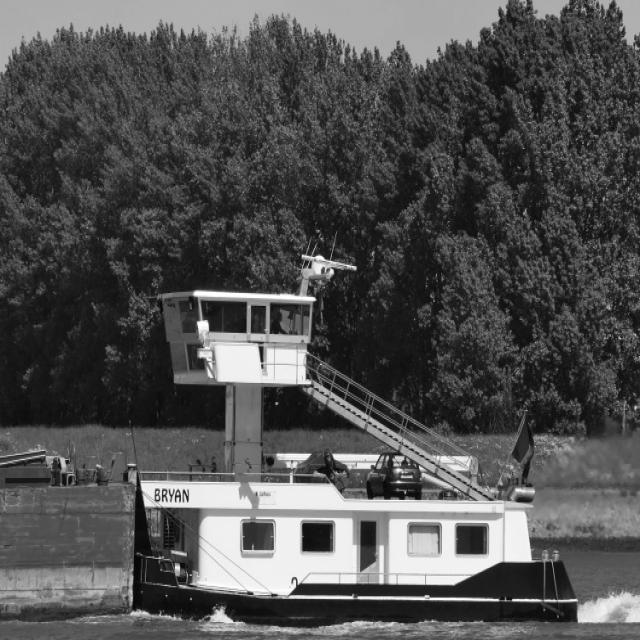tugboat: (45, 252, 614, 640)
